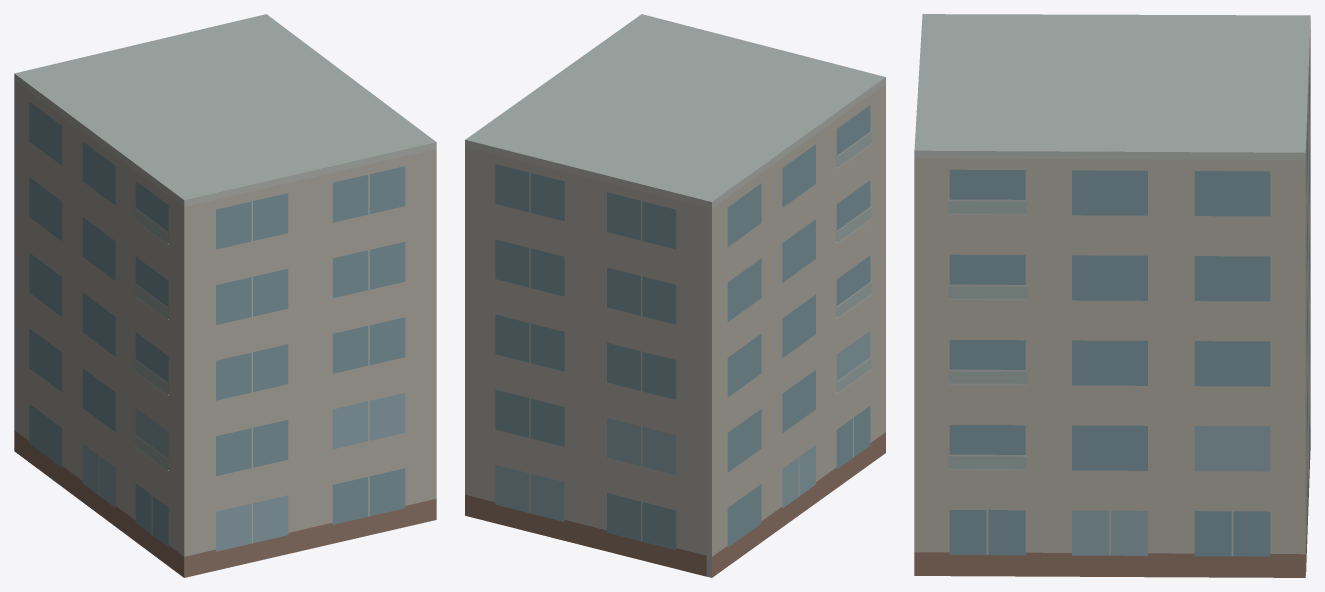
Rendered from survey-upis-32832447.glb.
The picture shows the model from 3 angles, left to right: view 1: azimuth 30°, elevation 25°; view 2: azimuth 150°, elevation 25°; view 3: azimuth 270°, elevation 25°; orthographic projection. The views are drawn at different scales.
Visible parts, largest first — view 1: survey-upis-32832447.tmp; view 2: survey-upis-32832447.tmp; view 3: survey-upis-32832447.tmp.
Boxes of the visible parts, x1=… form: survey-upis-32832447.tmp: x1=14, y1=14, x2=436, y2=577; survey-upis-32832447.tmp: x1=465, y1=14, x2=885, y2=577; survey-upis-32832447.tmp: x1=914, y1=14, x2=1310, y2=577.
Size of the model in its own units: 9.62 by 13.7 by 11.58.
